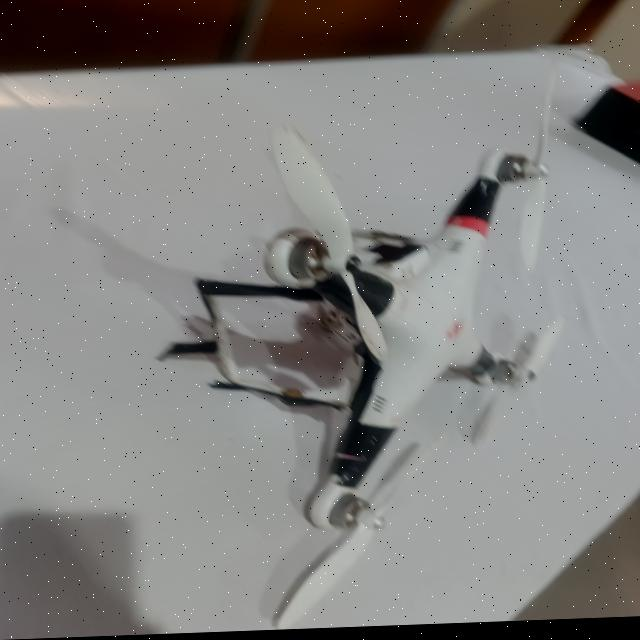drone: (211, 141, 579, 551)
